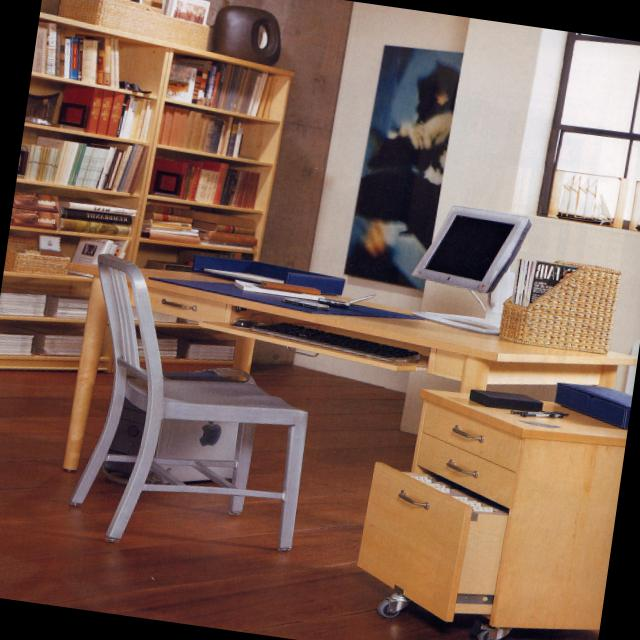chair -occluded-: (75, 254, 313, 546)
drawer handle: (358, 462, 471, 619)
monitor crop: (411, 203, 534, 330)
painting crop: (343, 45, 460, 294)
